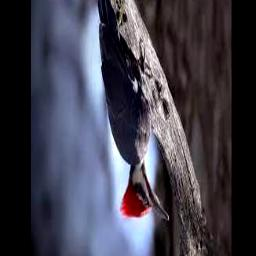Woodpecker: (97, 0, 169, 221)
